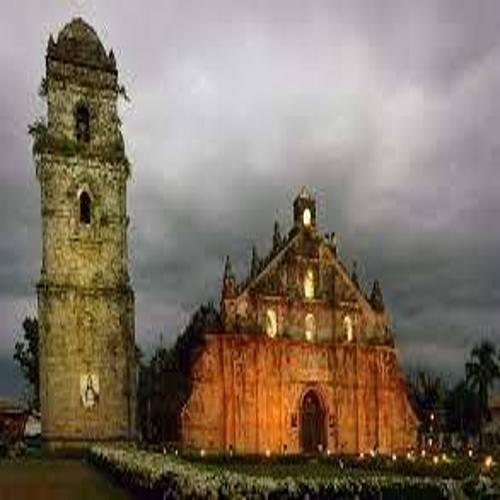Paoay Church: (19, 11, 445, 457)
